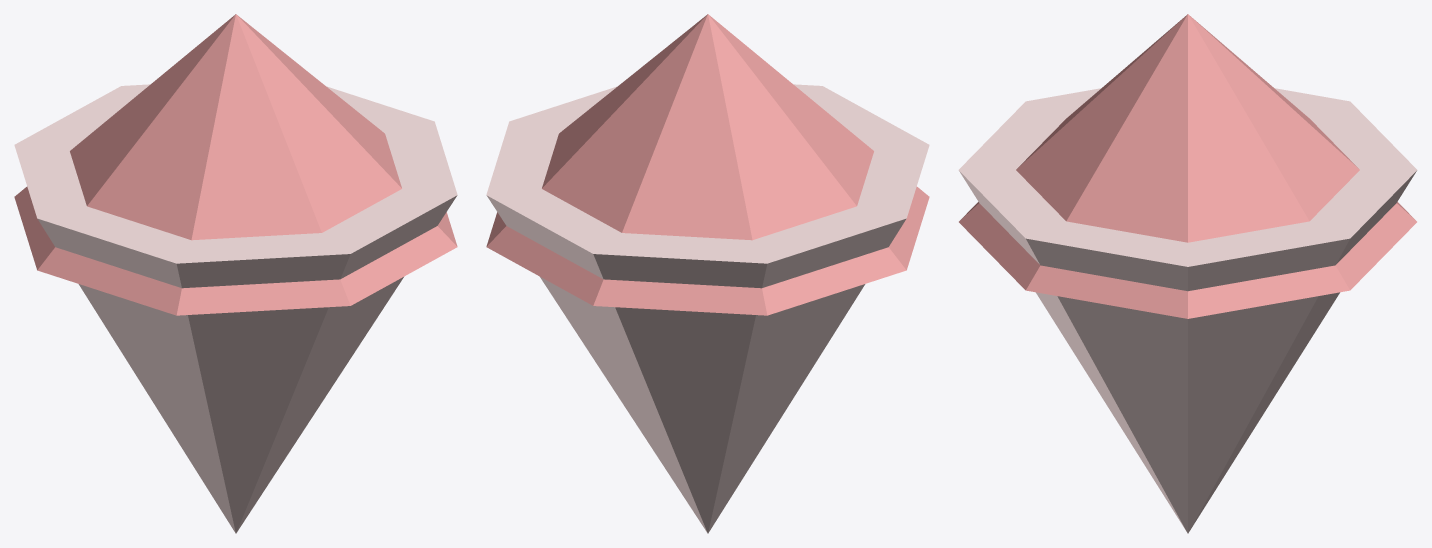
The model's file is quest-marker.glb.
The picture shows the model from 3 angles, left to right: view 1: azimuth 30°, elevation 25°; view 2: azimuth 150°, elevation 25°; view 3: azimuth 270°, elevation 25°; orthographic projection.
Parts seen in each view (by area): view 1: marker_Gem; view 2: marker_Gem; view 3: marker_Gem.
Boxes of the visible parts, x1,y1,x2,y2 form: marker_Gem: (14,14,457,533); marker_Gem: (486,14,929,533); marker_Gem: (958,14,1417,533).
Size of the model in its own units: 0.32 by 0.4 by 0.32.
